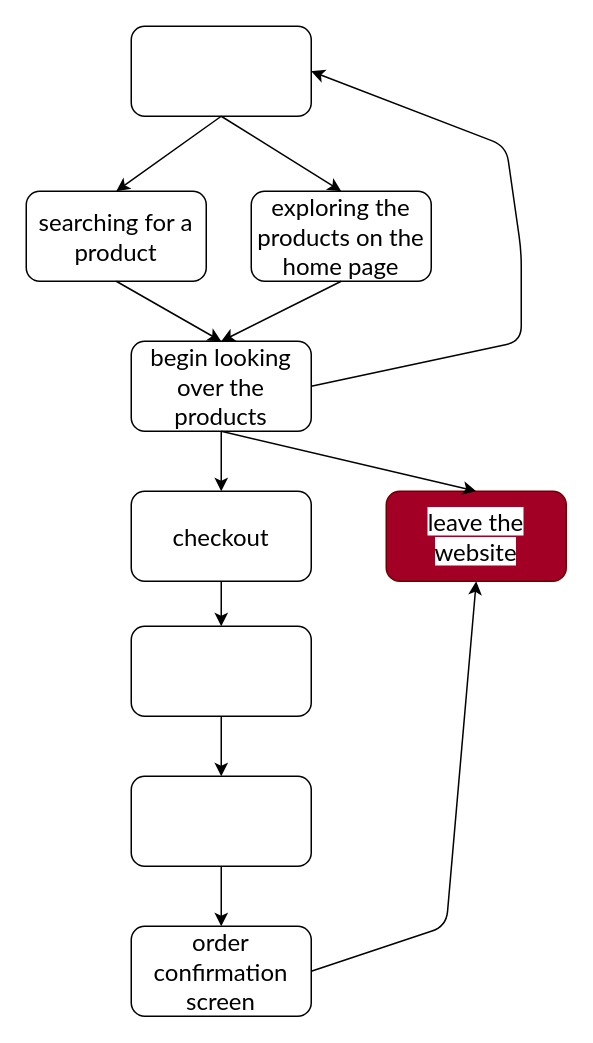
Image size: 593x1043. Some labels were removed from this diagram. The shapes that lost their labels are listed below. From the top down, each one's box as (x1, y1, x2, y2) in pixels, then its label:
(130, 25, 311, 116): entering the website
(130, 625, 311, 716): View Cart screen
(130, 775, 311, 866): View Payment screen
